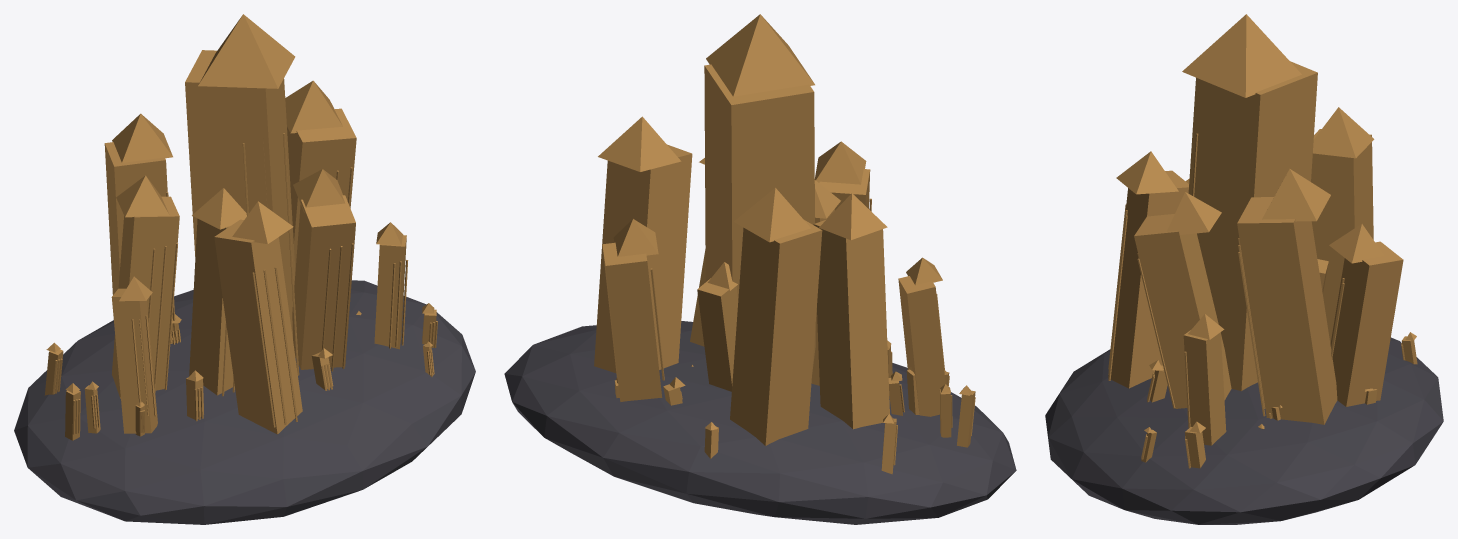
File: monazite.glb
The picture shows the model from 3 angles, left to right: view 1: azimuth 30°, elevation 25°; view 2: azimuth 150°, elevation 25°; view 3: azimuth 270°, elevation 25°; orthographic projection. The views are drawn at different scales.
Parts seen in each view (by area): view 1: Monazite-(Ce); view 2: Monazite-(Ce); view 3: Monazite-(Ce).
Part boxes in pixels (x1=…): Monazite-(Ce): x1=14, y1=14, x2=475, y2=524; Monazite-(Ce): x1=504, y1=14, x2=1016, y2=524; Monazite-(Ce): x1=1045, y1=14, x2=1443, y2=524.
Bounding box in the file's own units: 3.96 × 3.88 × 3.03.
